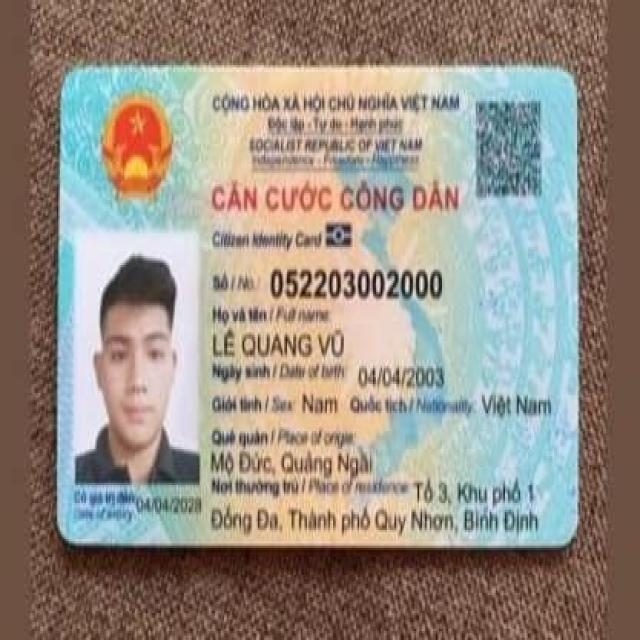current_place: (206, 500, 542, 541), (410, 470, 540, 510)
dob: (355, 359, 447, 395)
expire_date: (132, 489, 206, 521)
gender: (298, 385, 342, 421)
id: (266, 260, 447, 308)
name: (208, 324, 349, 362)
nationality: (478, 388, 555, 425)
origin_place: (208, 445, 376, 482)
qr: (469, 91, 548, 205)
